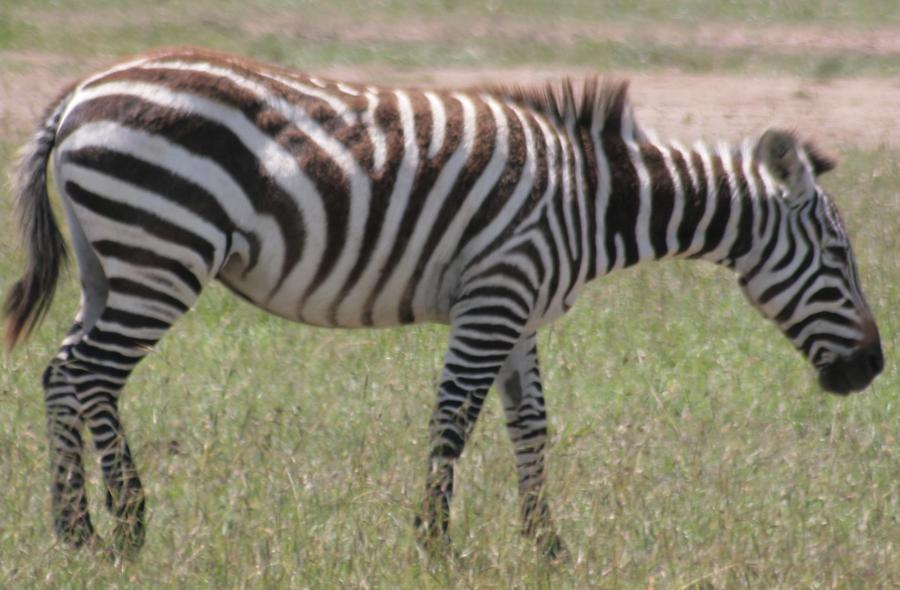zebra_plains: (62, 53, 560, 302)
